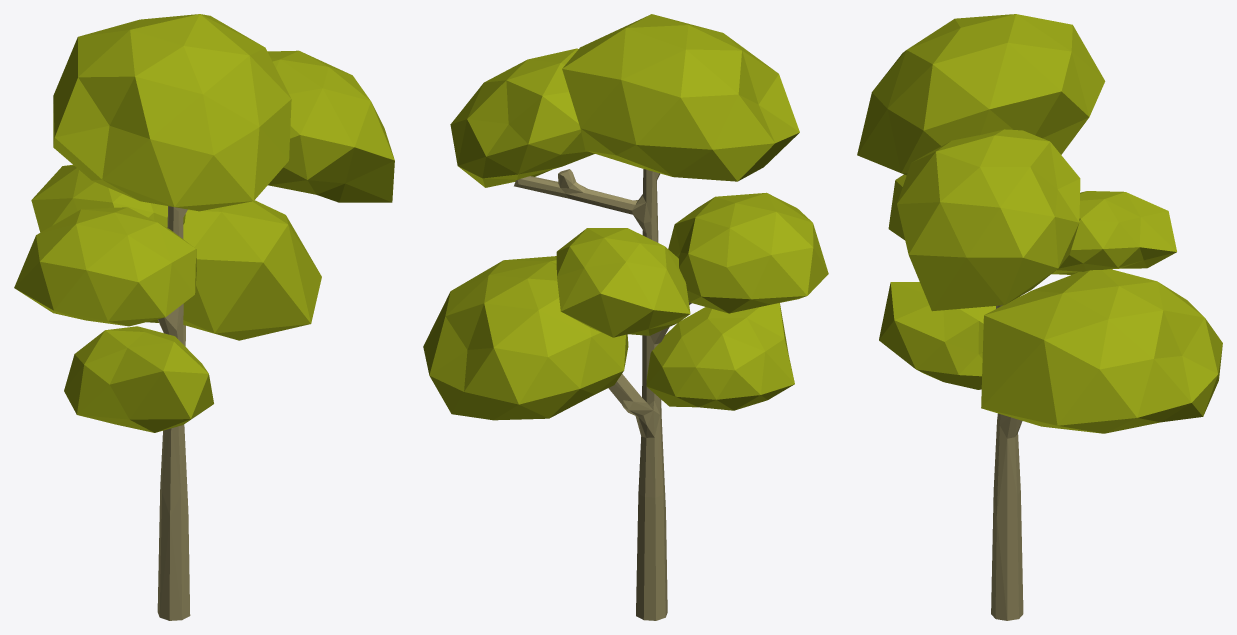
The model's file is birch_1.glb.
3 renders of one model, left to right at view 1: azimuth 30°, elevation 25°; view 2: azimuth 150°, elevation 25°; view 3: azimuth 270°, elevation 25°, orthographic. The views are drawn at different scales.
Parts seen in each view (by area): view 1: Icosphere.003; view 2: Icosphere.003; view 3: Icosphere.003.
Boxes of the visible parts, x1,y1,x2,y2 form: Icosphere.003: (14, 14, 394, 620); Icosphere.003: (423, 14, 828, 620); Icosphere.003: (857, 14, 1222, 620).
Size of the model in its own units: 5.78 by 9.17 by 5.21.
